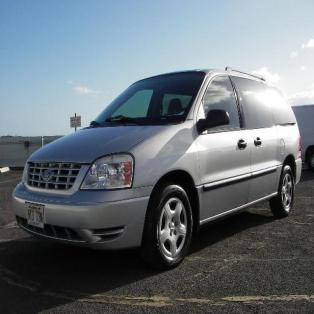Auto: (9, 66, 304, 266)
